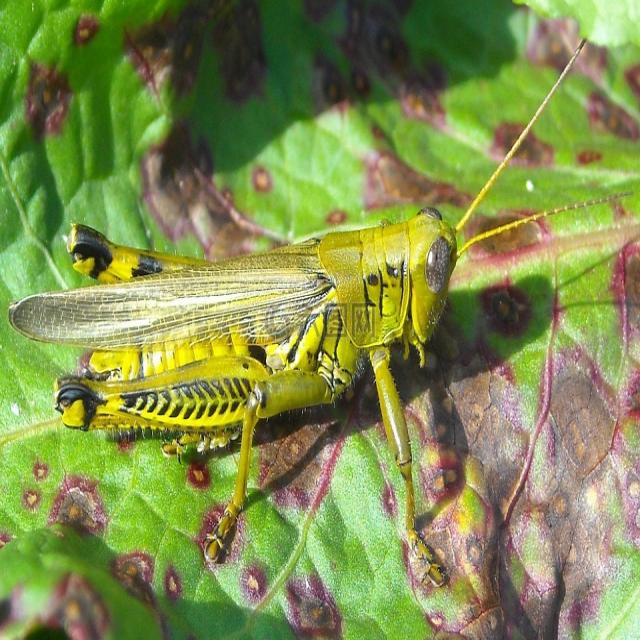ZhaMeng: (10, 57, 527, 579)
